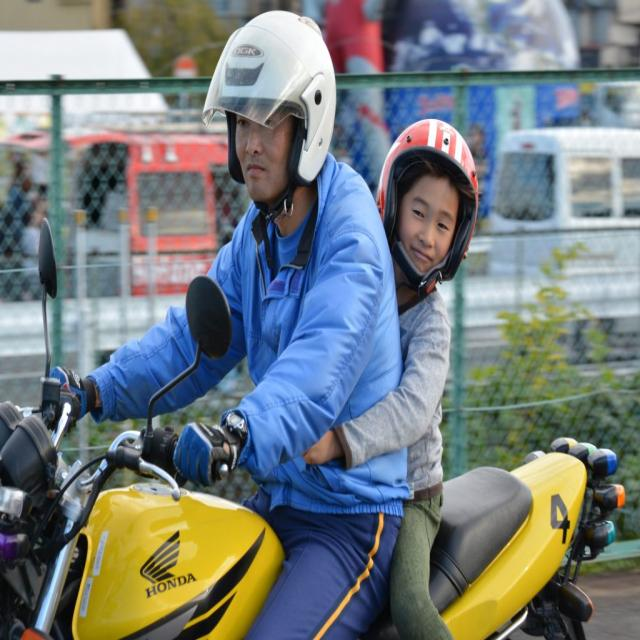helmet: (197, 6, 341, 225), (373, 112, 481, 304)
